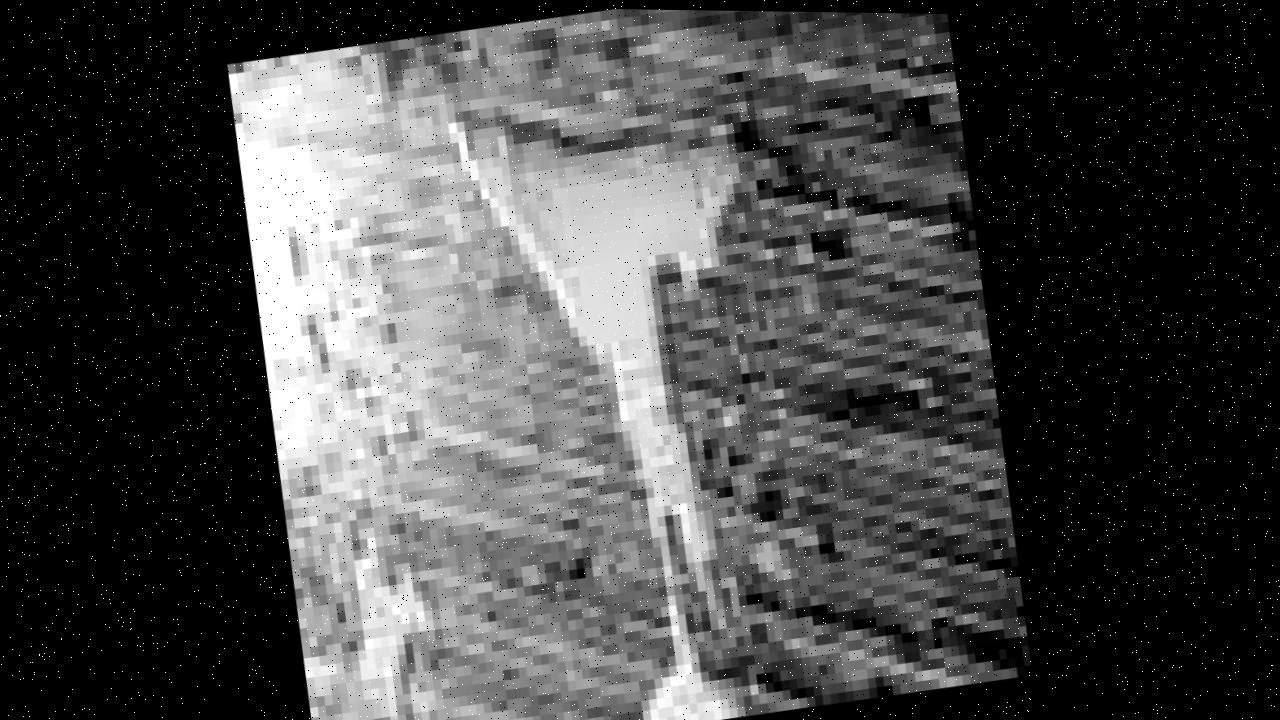drinks Stains: (211, 3, 1052, 720)
